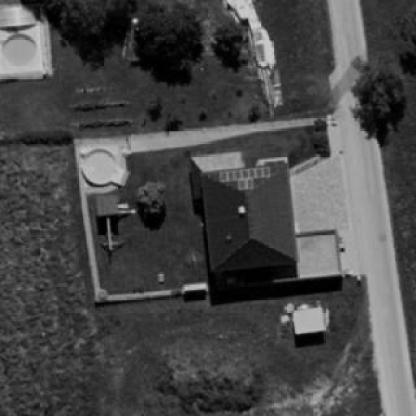solar-pv-panel: (219, 166, 270, 190)
